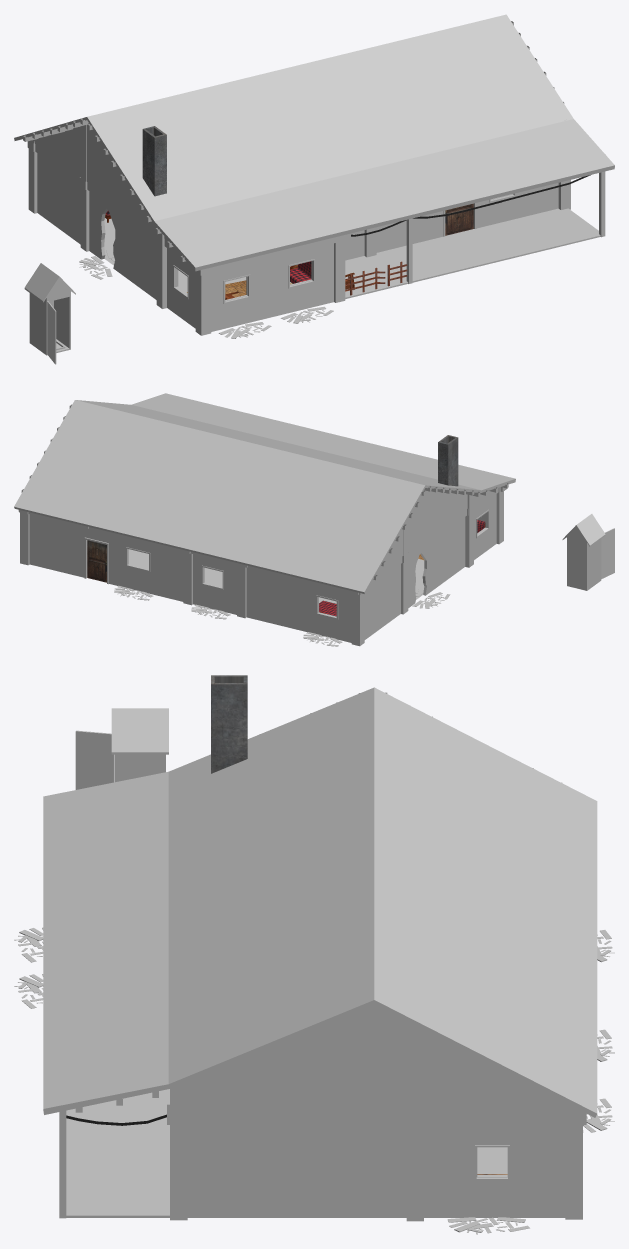
File: cabana.fbx
3 views of the same model, one above another, from view 1: azimuth 30°, elevation 25°; view 2: azimuth 150°, elevation 25°; view 3: azimuth 270°, elevation 25° (orthographic). The views are drawn at different scales.
Parts seen in each view (by area): view 1: cabin, bano, Door.001, reja casa, puera bano; view 2: cabin, bano, Door.003, puera bano; view 3: cabin, bano, puera bano.
Boxes of the visible parts, x1=… form: cabin: x1=14, y1=14, x2=614, y2=338; bano: x1=24, y1=263, x2=75, y2=355; Door.001: x1=445, y1=203, x2=473, y2=235; reja casa: x1=345, y1=261, x2=407, y2=295; puera bano: x1=47, y1=301, x2=56, y2=364; cabin: x1=14, y1=393, x2=515, y2=646; bano: x1=562, y1=514, x2=605, y2=590; Door.003: x1=87, y1=540, x2=106, y2=582; puera bano: x1=601, y1=528, x2=614, y2=578; cabin: x1=14, y1=675, x2=614, y2=1234; bano: x1=111, y1=708, x2=168, y2=782; puera bano: x1=75, y1=730, x2=113, y2=789.
Size of what is drawn, in the model's own units: 2571 by 696 by 1544.
